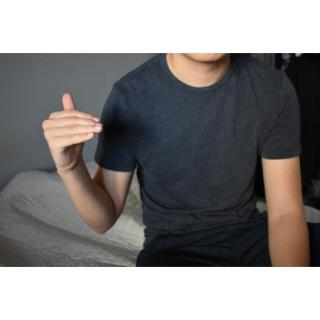KHAA: (41, 90, 108, 174)
